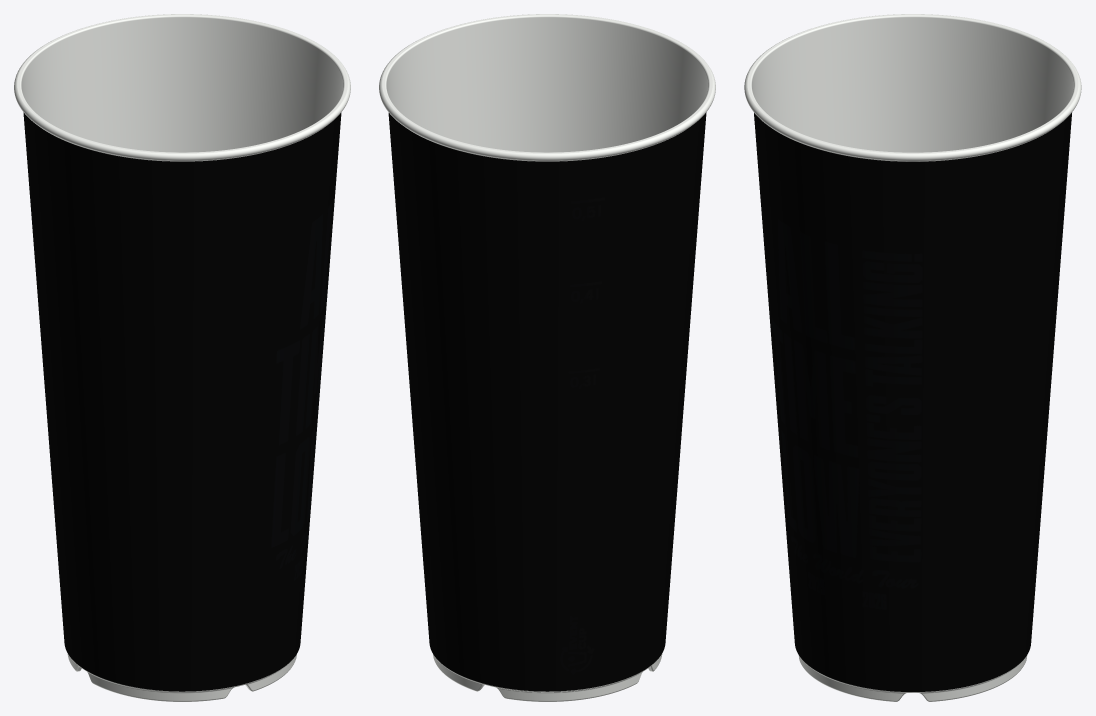
File: NeuerBecher1.glb
The picture shows the model from 3 angles, left to right: view 1: azimuth 30°, elevation 25°; view 2: azimuth 150°, elevation 25°; view 3: azimuth 270°, elevation 25°; orthographic projection.
Visible parts, largest first — view 1: Design, Becher; view 2: Design, Becher; view 3: Design, Becher.
Part boxes in pixels (box(x1,y1,x2,y2)): Design: box(23, 112, 341, 691); Becher: box(14, 14, 350, 701); Design: box(388, 112, 706, 691); Becher: box(379, 14, 715, 701); Design: box(754, 113, 1071, 691); Becher: box(744, 14, 1081, 701).
Bounding box in the file's own units: 0.0847 × 0.1581 × 0.0847.
2 materials, 1 textured.
